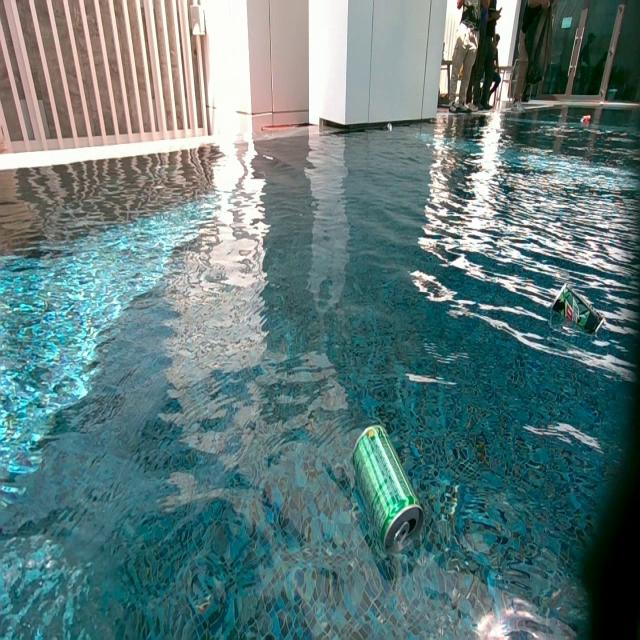Cans: (349, 422, 427, 557), (550, 282, 606, 338), (582, 115, 592, 123), (581, 118, 589, 126), (386, 122, 393, 130)
